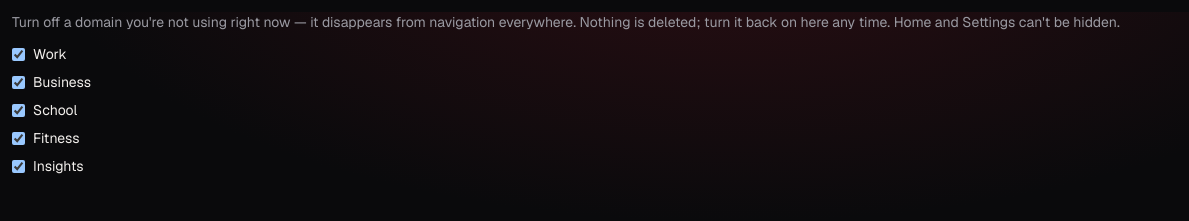
Test case: FeatureVisibilitySettings › reverts the optimistic toggle and shows an error if the save fails
Click the checkbox labelled "Work": {"x": 18, "y": 54} [12, 48, 25, 60]
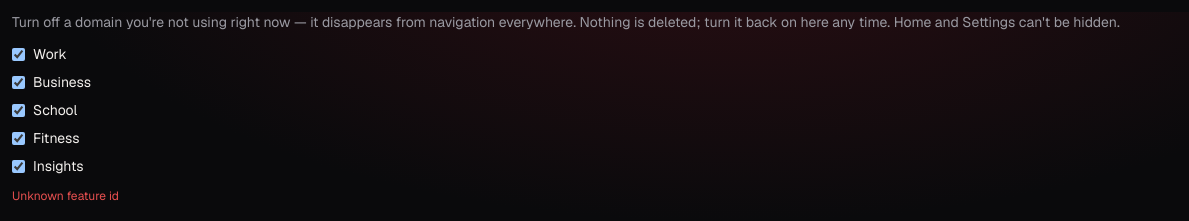
Now the text "Unknown feature id" is shown, box [12, 188, 119, 204]
